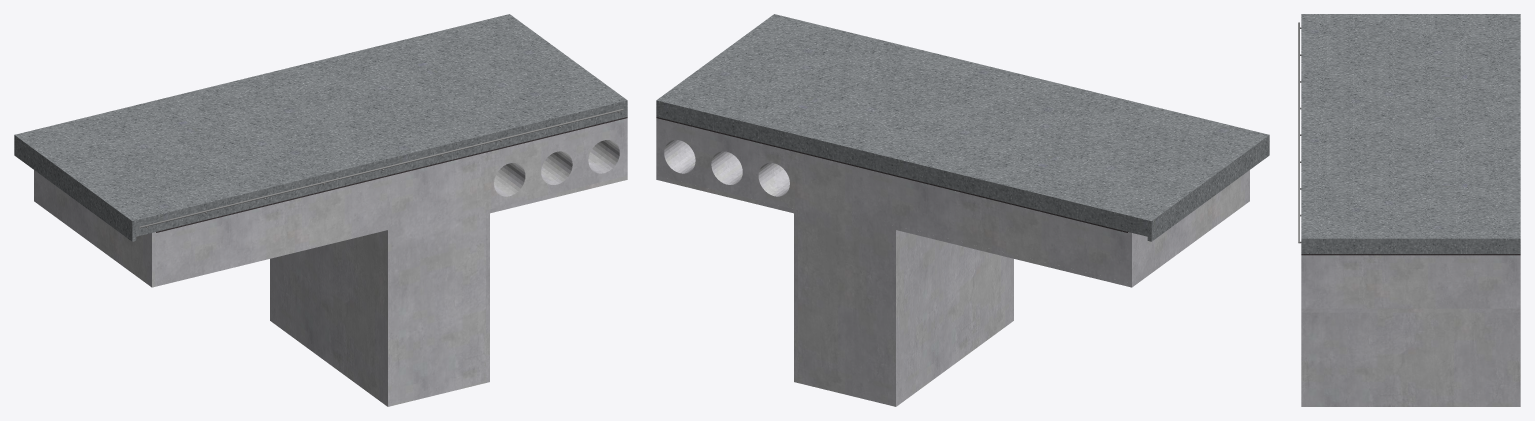
Rendered from free-fall-ring-beam-eaves-01-v2.glb.
3 renders of one model, left to right at view 1: azimuth 30°, elevation 25°; view 2: azimuth 150°, elevation 25°; view 3: azimuth 270°, elevation 25°, orthographic. The views are drawn at different scales.
Visible parts, largest first — view 1: 细石混凝土防水层, 室外抹灰, 圈梁带挑檐板, 墙体, 空心屋面板, 水泥砂浆找平层, 室内抹灰, 防水层双向钢筋网, 纸筋灰隔离层; view 2: 细石混凝土防水层, 室外抹灰, 圈梁带挑檐板, 墙体, 空心屋面板, 水泥砂浆找平层, 室内抹灰, 纸筋灰隔离层; view 3: 细石混凝土防水层, 室内抹灰, 空心屋面板, 水泥砂浆找平层, 防水层双向钢筋网, 纸筋灰隔离层.
Boxes of the visible parts, <box> form: 细石混凝土防水层: <box>14,14,627,241</box>; 室外抹灰: <box>34,170,391,406</box>; 圈梁带挑檐板: <box>156,161,485,282</box>; 墙体: <box>391,259,485,405</box>; 空心屋面板: <box>486,126,627,209</box>; 水泥砂浆找平层: <box>156,118,627,241</box>; 室内抹灰: <box>486,175,627,382</box>; 防水层双向钢筋网: <box>139,108,623,228</box>; 纸筋灰隔离层: <box>156,117,627,232</box>; 细石混凝土防水层: <box>656,14,1269,241</box>; 室外抹灰: <box>892,170,1249,406</box>; 圈梁带挑檐板: <box>798,161,1127,282</box>; 墙体: <box>798,259,892,405</box>; 空心屋面板: <box>656,126,797,209</box>; 水泥砂浆找平层: <box>656,118,1127,241</box>; 室内抹灰: <box>656,175,797,382</box>; 纸筋灰隔离层: <box>656,117,1127,232</box>; 细石混凝土防水层: <box>1301,14,1520,253</box>; 室内抹灰: <box>1301,308,1520,406</box>; 空心屋面板: <box>1301,263,1520,308</box>; 水泥砂浆找平层: <box>1301,255,1520,262</box>; 防水层双向钢筋网: <box>1298,22,1301,243</box>; 纸筋灰隔离层: <box>1301,254,1520,255</box>.
Size of what is drawn, in the model's own units: 1.26 by 0.603 by 0.527.
9 materials, 8 textured.
